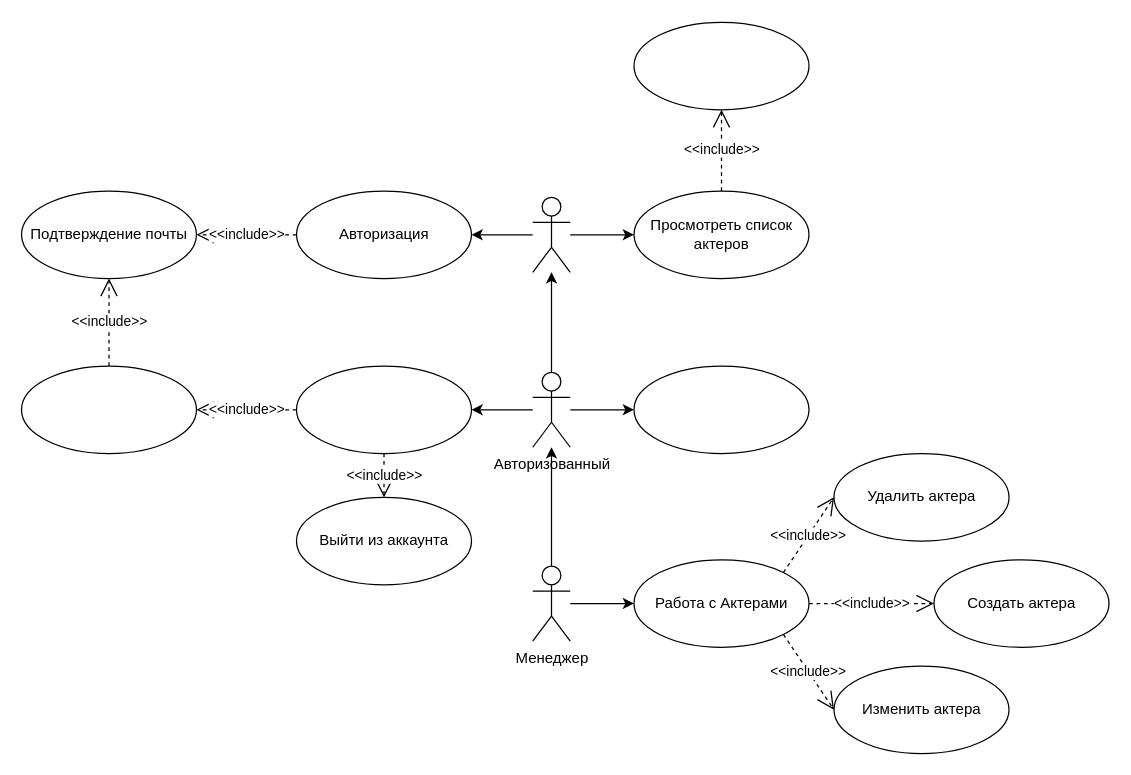
Some shapes in this 1131 by 775 pixel diagram are drawn without their labels. Here are the shapes that lost their labels. From the top down, the centre of each, then its label:
At (x=721, y=65): "Найти определенного актера".
At (x=551, y=234): "Гость".
At (x=108, y=409): "Изменить пароль".
At (x=383, y=409): "Редактировать профиль".
At (x=721, y=409): "Купить билет на представление".
